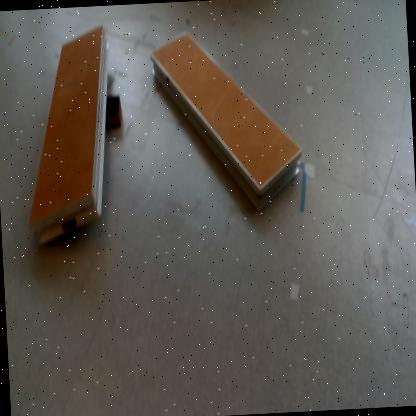Stairs: (151, 35, 301, 213), (26, 25, 111, 251)
